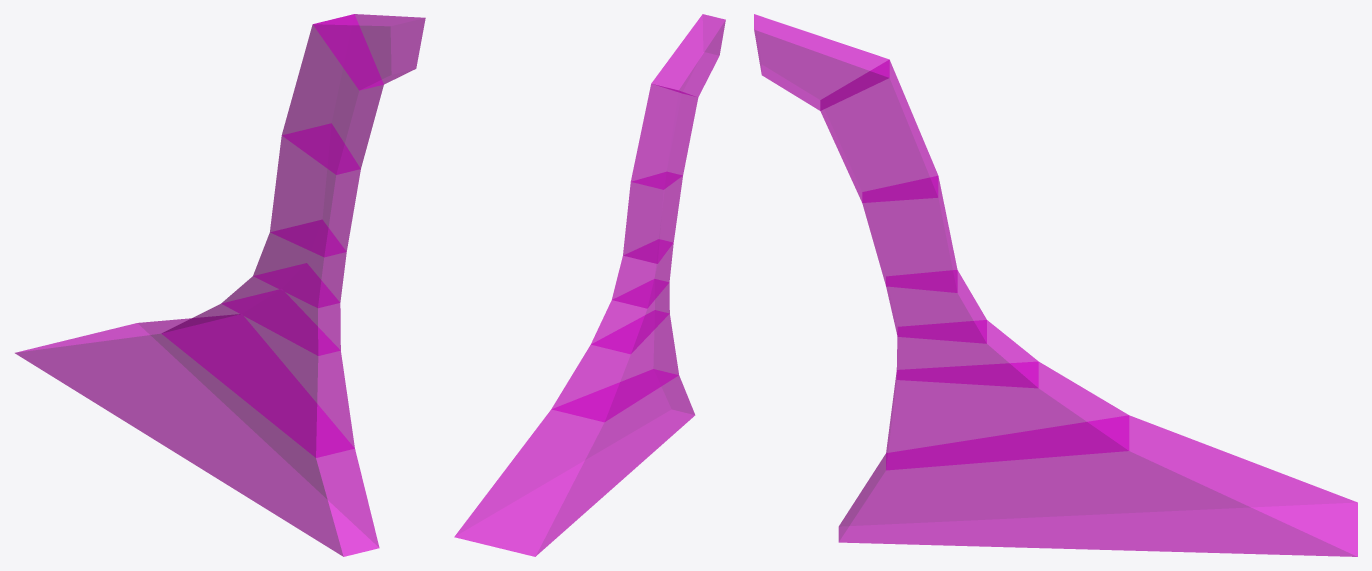
File: SM_Veh_Ship_L_Figurehead_07_Collision.fbx
3 renders of one model, left to right at view 1: azimuth 30°, elevation 25°; view 2: azimuth 150°, elevation 25°; view 3: azimuth 270°, elevation 25°, orthographic. The views are drawn at different scales.
Visible parts, largest first — view 1: SM_Veh_Ship_L_Figurehead_07_Collision; view 2: SM_Veh_Ship_L_Figurehead_07_Collision; view 3: SM_Veh_Ship_L_Figurehead_07_Collision.
Part boxes in pixels (x1,y1,x2,y2): SM_Veh_Ship_L_Figurehead_07_Collision: (15, 14, 425, 556); SM_Veh_Ship_L_Figurehead_07_Collision: (454, 14, 725, 556); SM_Veh_Ship_L_Figurehead_07_Collision: (754, 14, 1357, 556).
Bounding box in the file's own units: 208 × 914 × 976.
